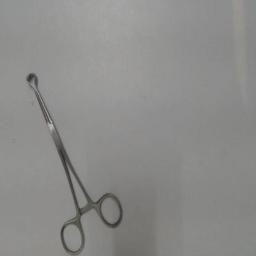Babcock Tissue Forceps: (22, 66, 128, 254)
